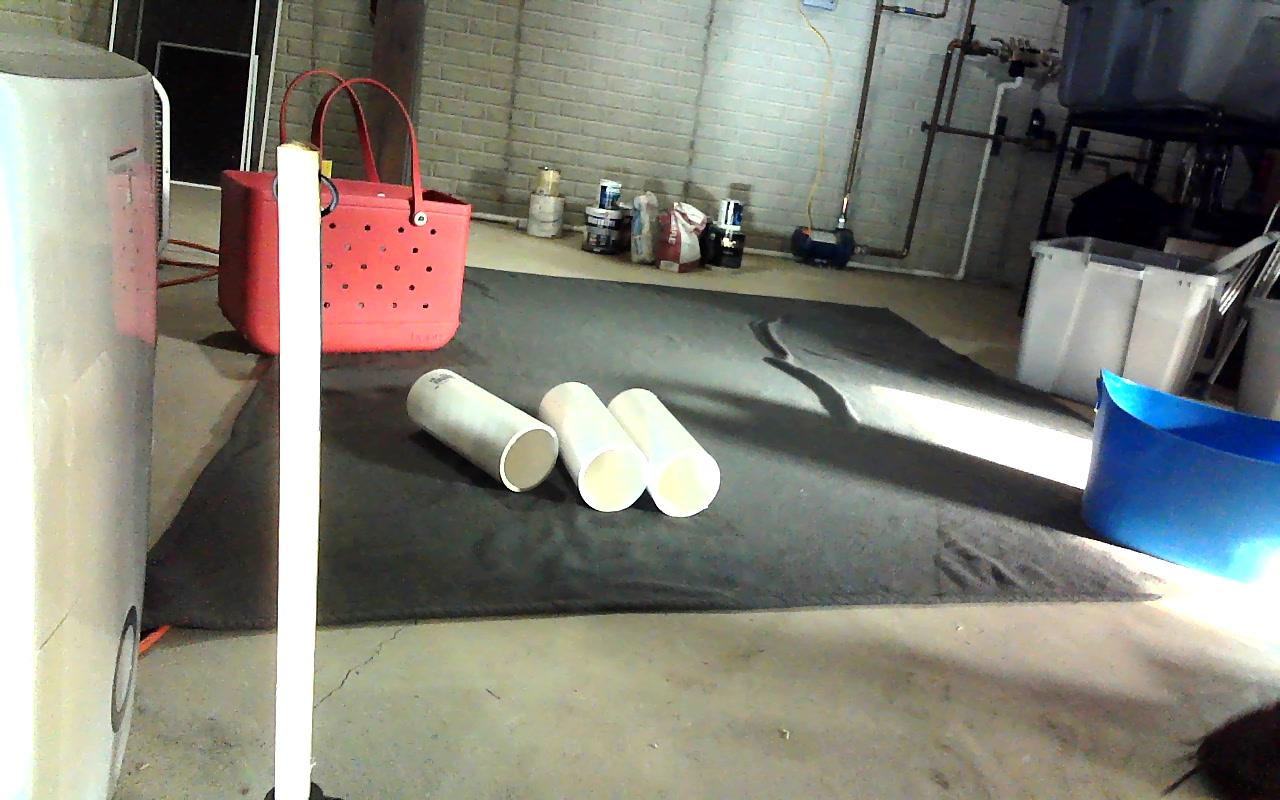coral: (406, 368, 557, 491), (542, 382, 650, 513), (612, 388, 720, 513)
